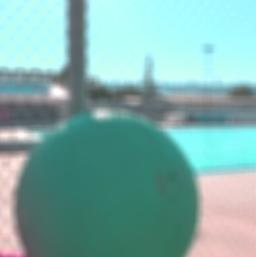algae: (11, 110, 204, 257)
